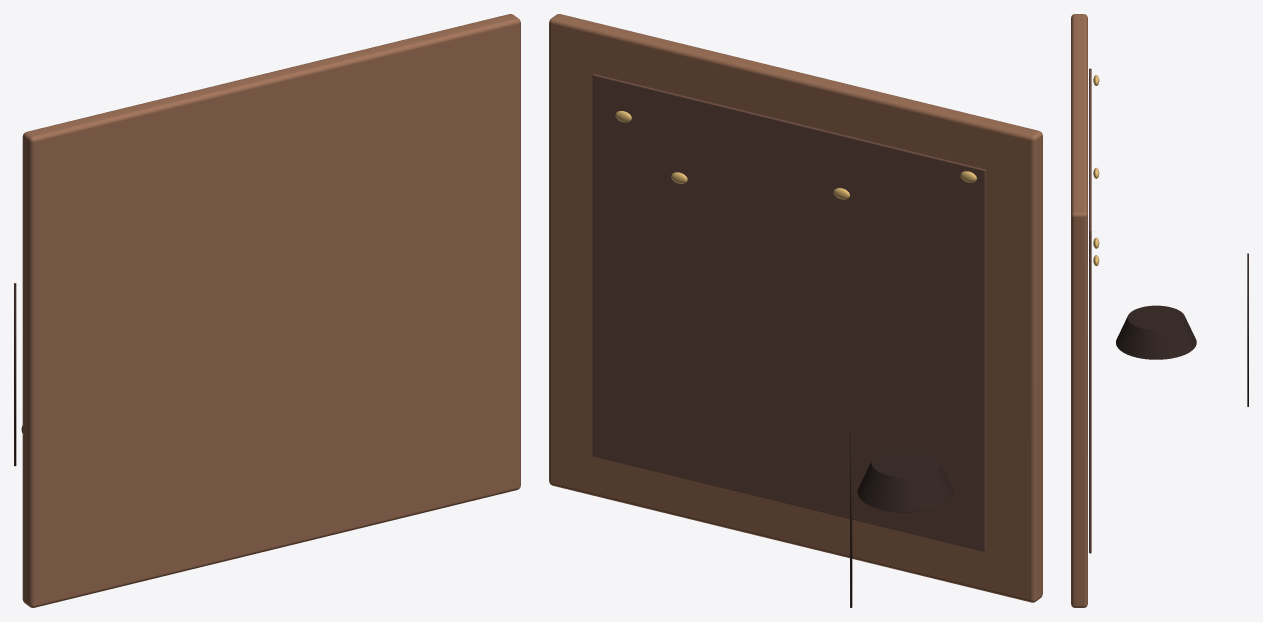
The model's file is table-room.glb.
3 views of the same model, side by side, from view 1: azimuth 30°, elevation 25°; view 2: azimuth 150°, elevation 25°; view 3: azimuth 270°, elevation 25° (orthographic). The views are drawn at different scales.
Visible parts, largest first — view 1: table_top; view 2: table_cloth, table_top, lamp_shade; view 3: table_top, lamp_shade, table_cloth, lamp_cord.
Part boxes in pixels (x1,y1,x2,y2): table_top: (22,14,520,607); table_cloth: (592,74,986,551); table_top: (549,14,1042,602); lamp_shade: (857,448,953,512); table_top: (1071,14,1087,607); lamp_shade: (1116,305,1196,359); table_cloth: (1089,68,1091,553); lamp_cord: (1247,253,1248,406).
Bounding box in the file's own units: 9.6 × 8.8 × 3.59.
